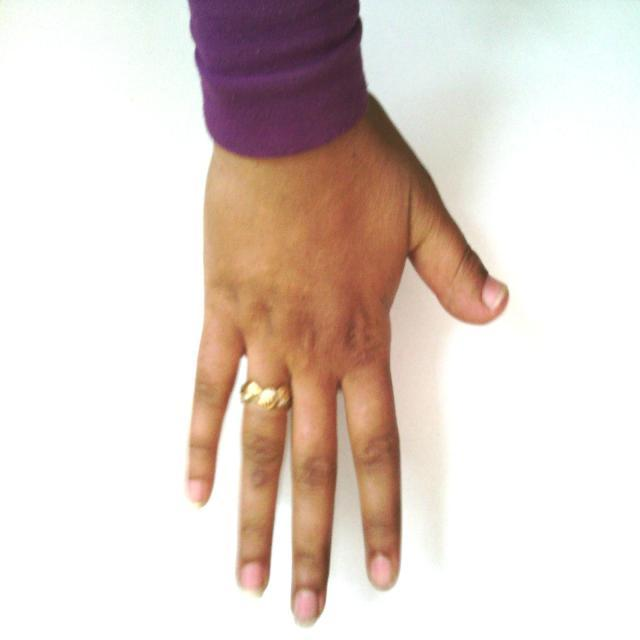Fingernail: (482, 274, 507, 311), (294, 590, 318, 627), (241, 563, 264, 596), (371, 556, 392, 589), (189, 480, 207, 505)
